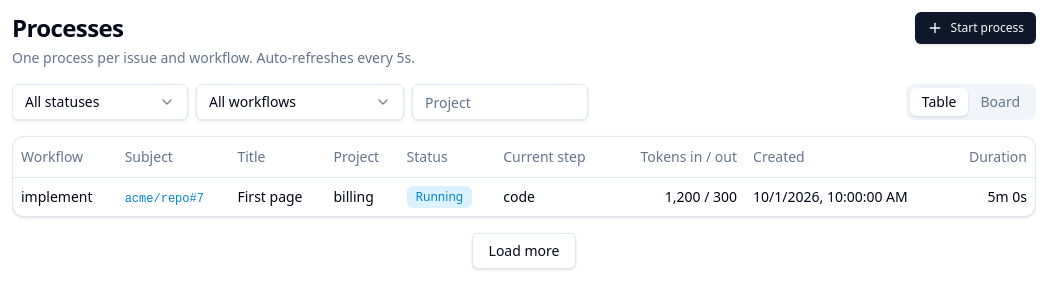
Test case: ProcessList › loads the next page with the cursor
Expected: the link "First page" is shown, top-left (238, 186), bottom-right (302, 206)
Click the button "Load more". click: coordinates (524, 250)
box: top-left (472, 232), bottom-right (576, 268)
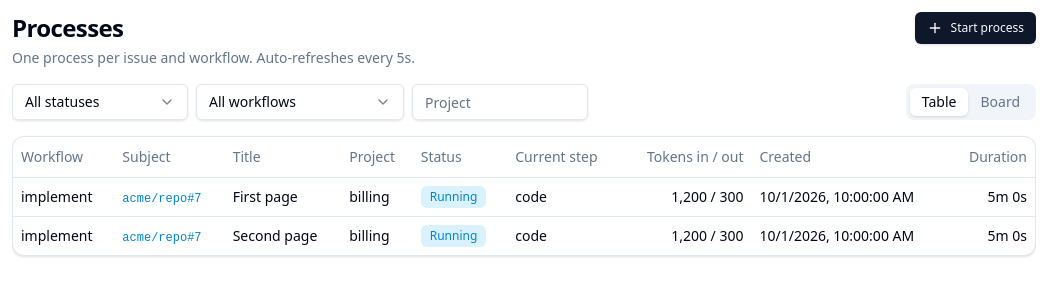
Expected: the link "First page" is shown, top-left (233, 186), bottom-right (298, 206)
Expected: the link "Second page" is shown, top-left (233, 226), bottom-right (317, 244)
Expected: the button "Load more" is gone
